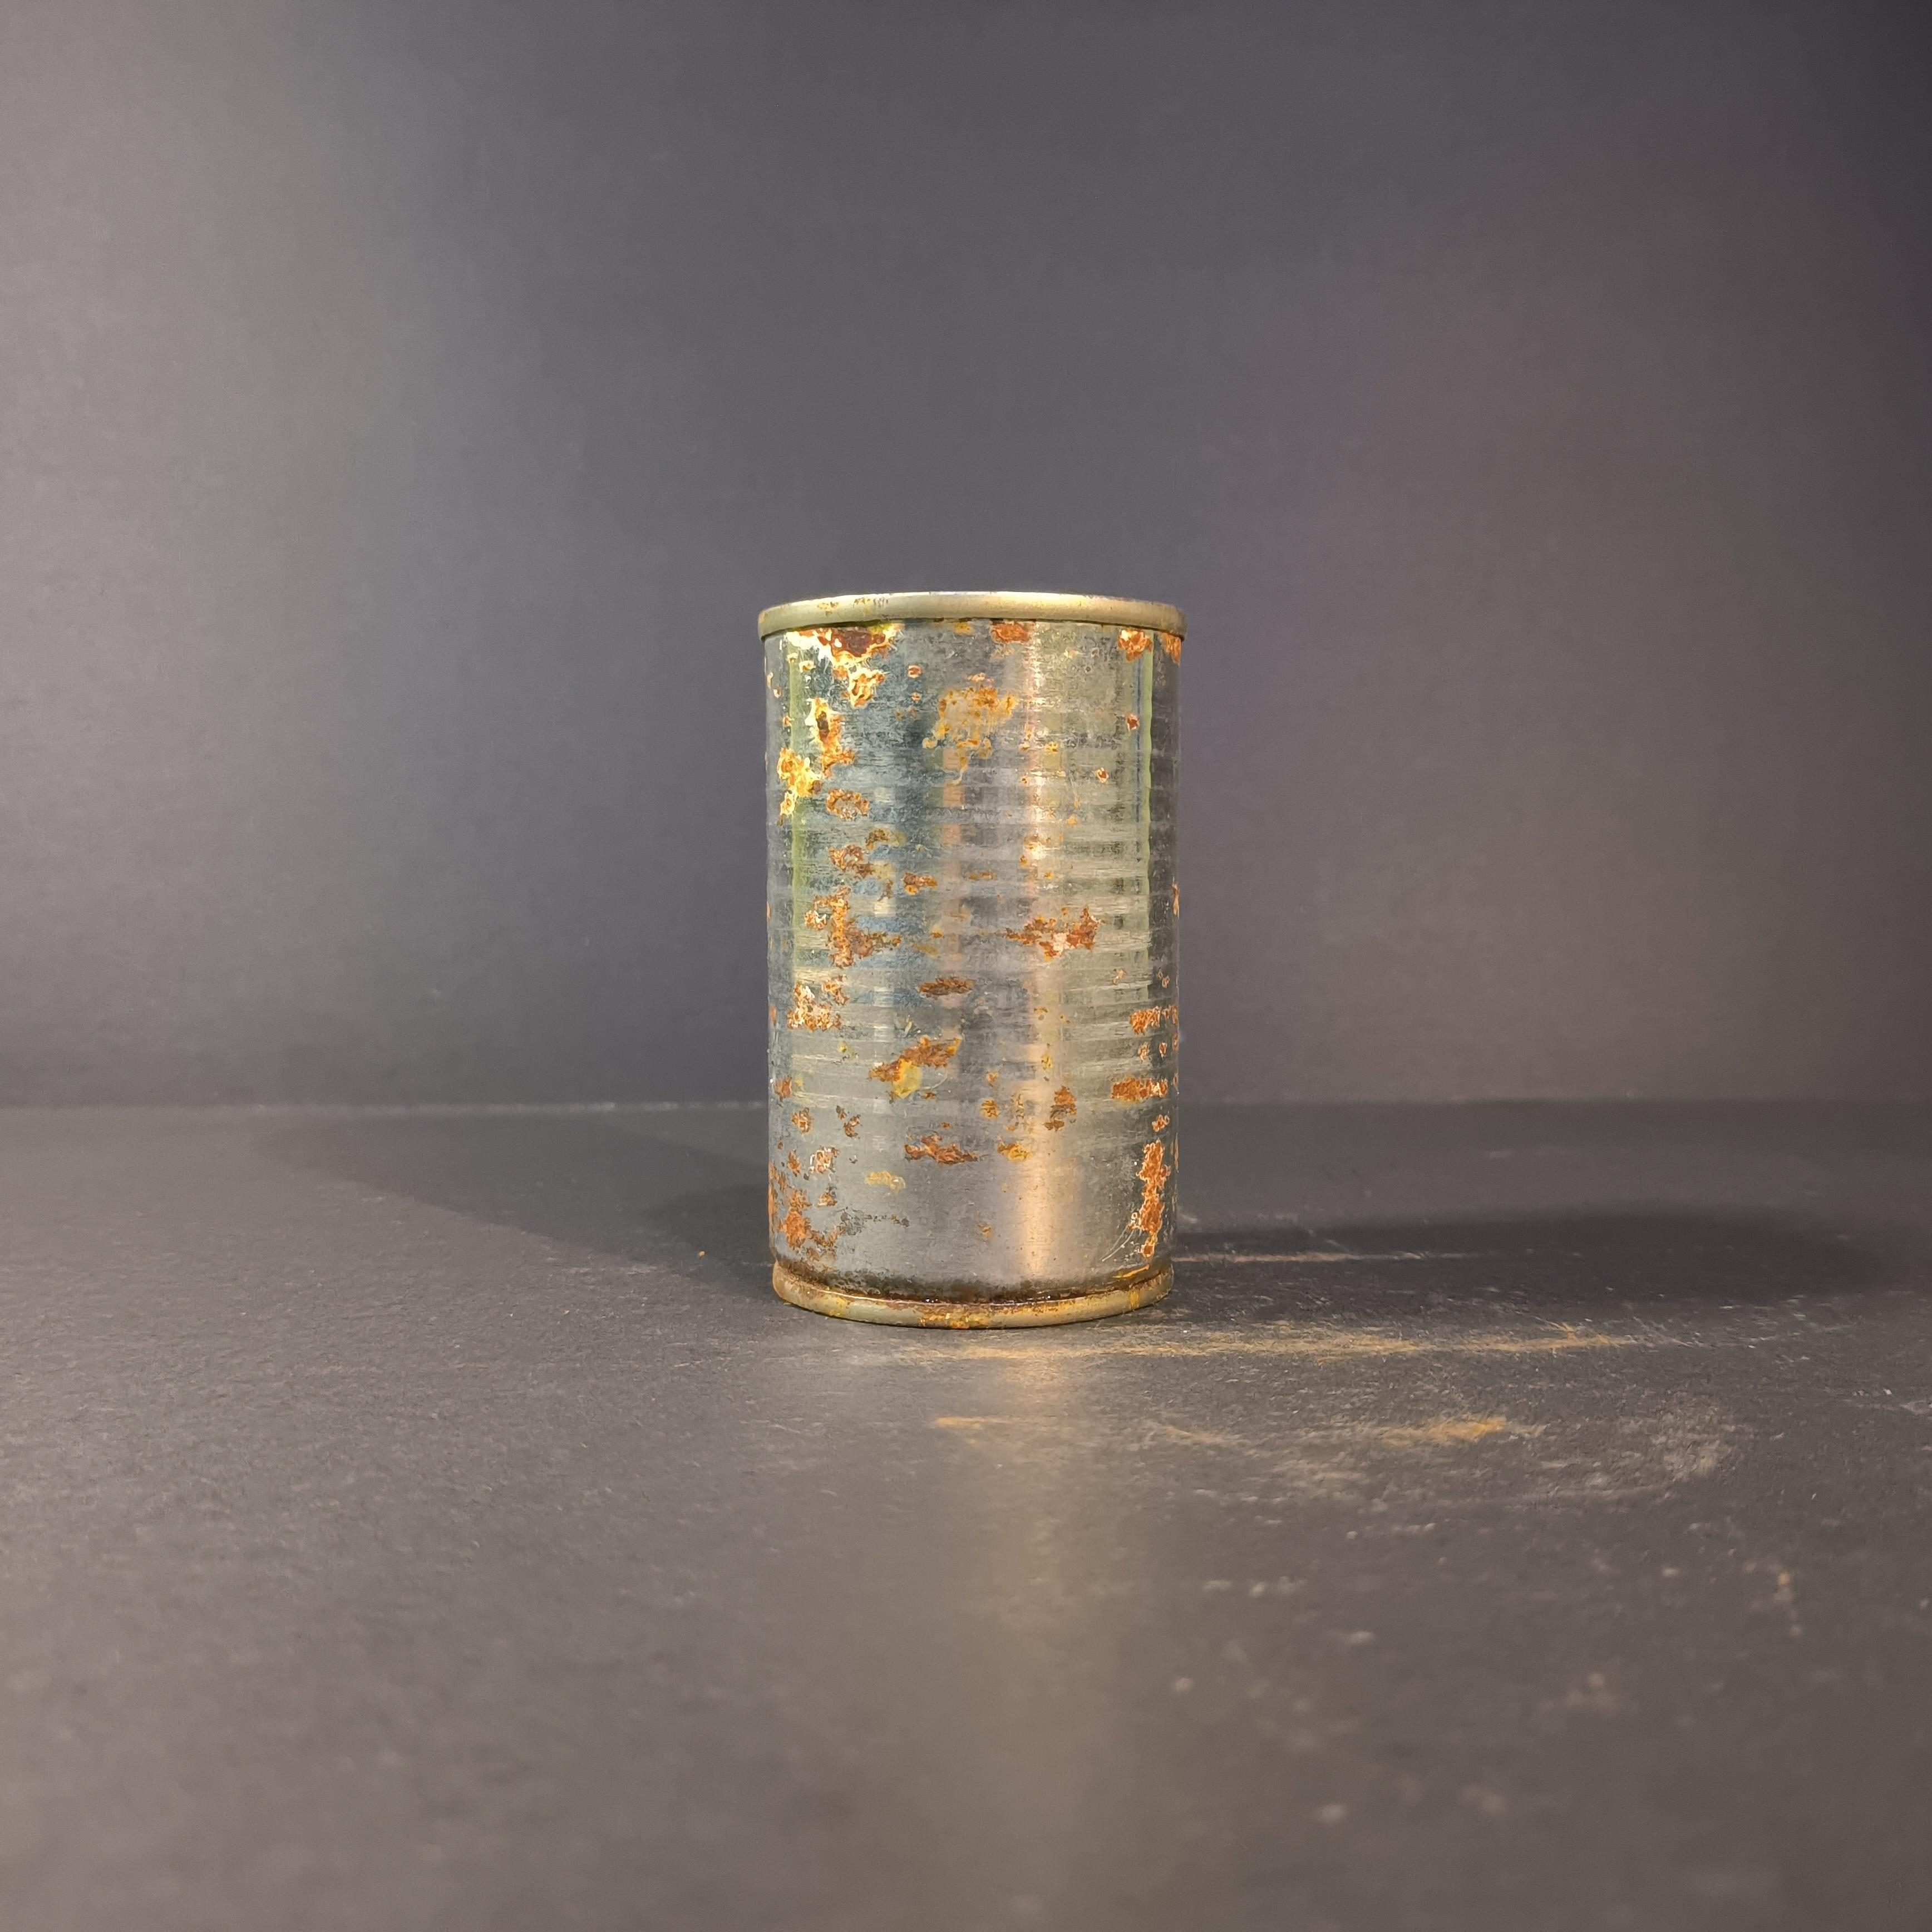Rusted: (738, 568, 1205, 1338)
